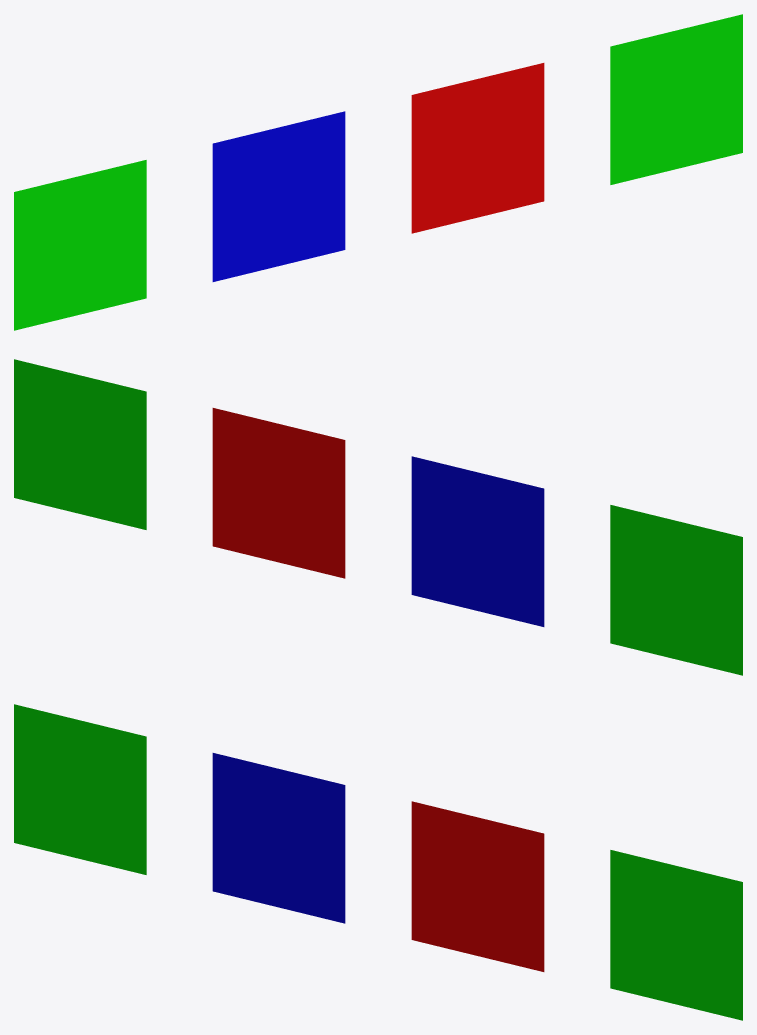
The model's file is SharedNamesReverseNone.fbx.
The picture shows the model from 3 angles, top to bottom: view 1: azimuth 30°, elevation 25°; view 2: azimuth 150°, elevation 25°; view 3: azimuth 330°, elevation 25°; orthographic projection.
Visible parts, largest first — view 1: Panels0; view 2: Panels0; view 3: Panels0.
Boxes of the visible parts, <box> form: Panels0: <box>14,14,742,330</box>; Panels0: <box>14,359,742,675</box>; Panels0: <box>14,704,742,1020</box>.
Size of the model in its own units: 5.5 by 1 by 0.
